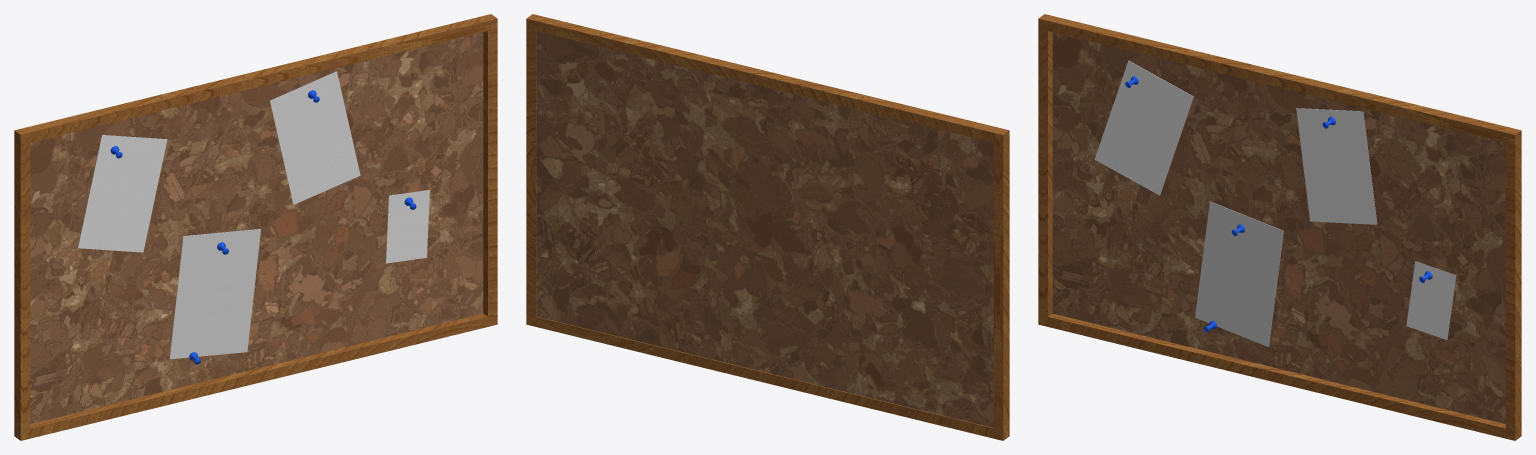
The model's file is cork_board.glb.
The picture shows the model from 3 angles, left to right: view 1: azimuth 30°, elevation 25°; view 2: azimuth 150°, elevation 25°; view 3: azimuth 330°, elevation 25°; orthographic projection.
Parts seen in each view (by area): view 1: Plane; view 2: Plane; view 3: Plane.
Boxes of the visible parts, x1,y1,x2,y2 form: Plane: [14, 14, 497, 440]; Plane: [526, 14, 1009, 440]; Plane: [1038, 14, 1521, 440].
Bounding box in the file's own units: 6.41 × 3.93 × 0.2595.
Materials: 1 (1 with a texture image).
